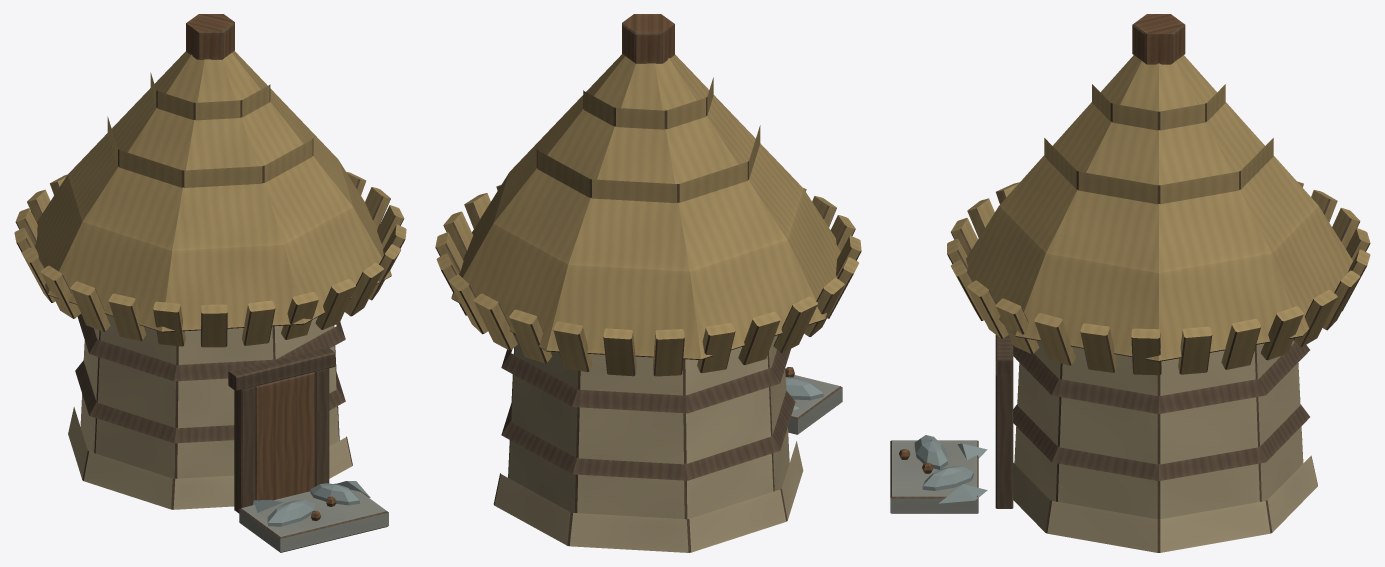
Rendered from reed-cone.glb.
3 views of the same model, side by side, from view 1: azimuth 30°, elevation 25°; view 2: azimuth 150°, elevation 25°; view 3: azimuth 270°, elevation 25° (orthographic). The views are drawn at different scales.
Visible parts, largest first — view 1: reed-cone; view 2: reed-cone; view 3: reed-cone.
Boxes of the visible parts, x1=… form: reed-cone: x1=14, y1=14, x2=406, y2=552; reed-cone: x1=435, y1=14, x2=861, y2=552; reed-cone: x1=890, y1=14, x2=1370, y2=552.
Size of the model in its own units: 0.6245 by 0.75 by 0.7067.
1 material, 1 textured.
